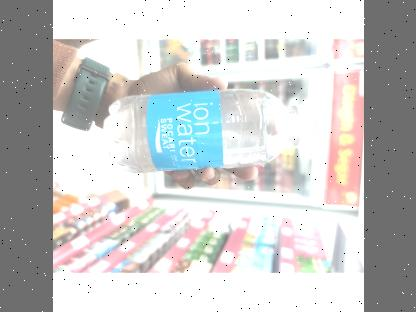Plastic Bottle: (96, 55, 332, 195)
